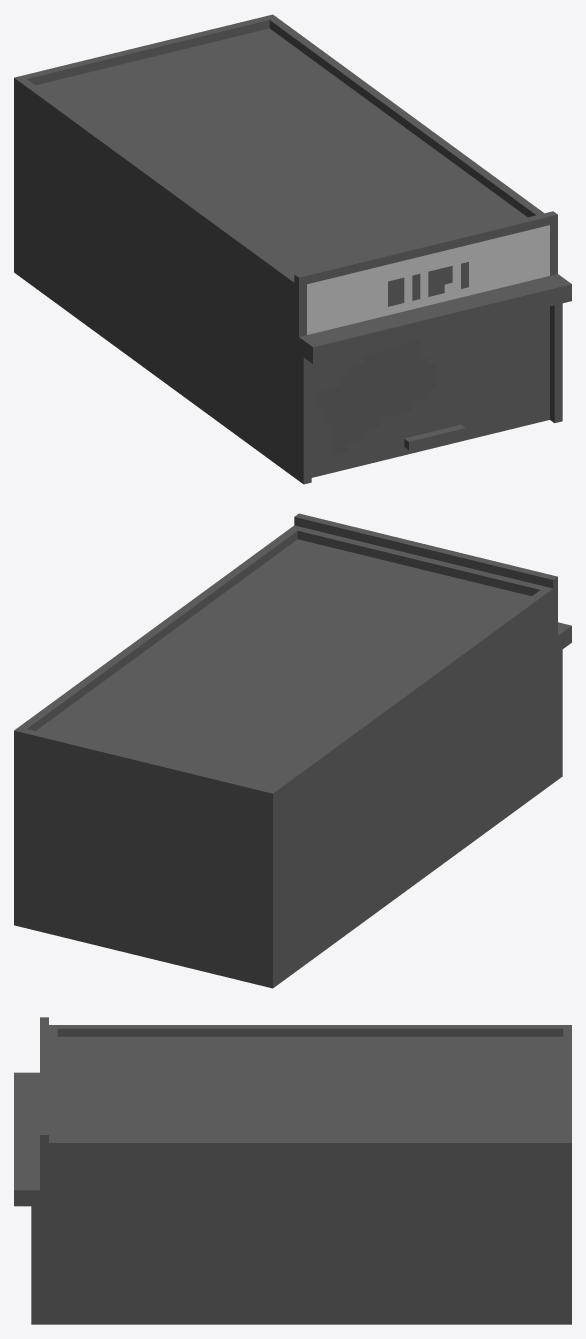
The model's file is bld_store10.obj.
3 renders of one model, top to bottom at view 1: azimuth 30°, elevation 25°; view 2: azimuth 150°, elevation 25°; view 3: azimuth 270°, elevation 25°, orthographic. The views are drawn at different scales.
Size of the model in its own units: 32 by 24 by 64.
